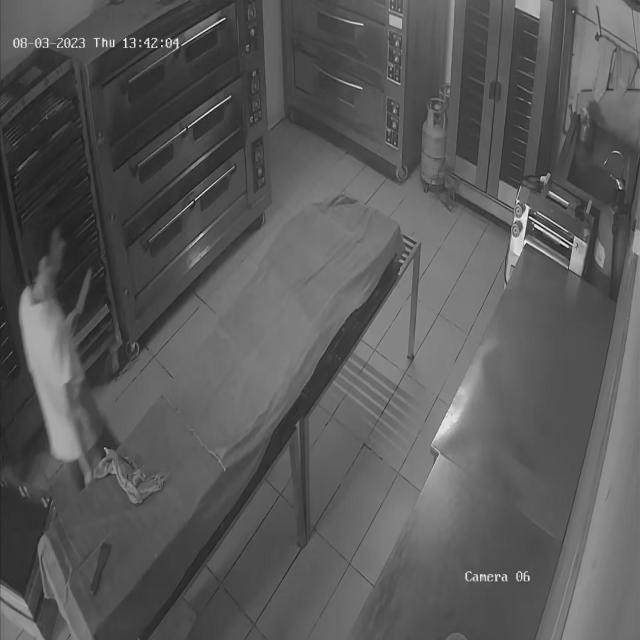Knife: (65, 267, 104, 318)
